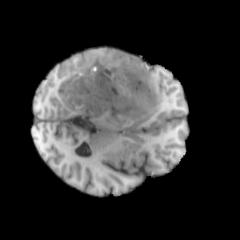glioma: (43, 50, 162, 126)
